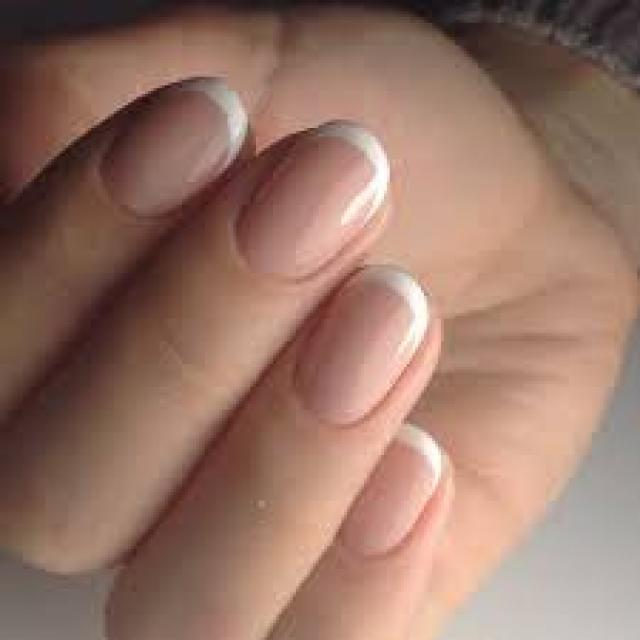Nail: (240, 125, 390, 279), (295, 270, 428, 426), (101, 81, 248, 211), (342, 425, 444, 555)
